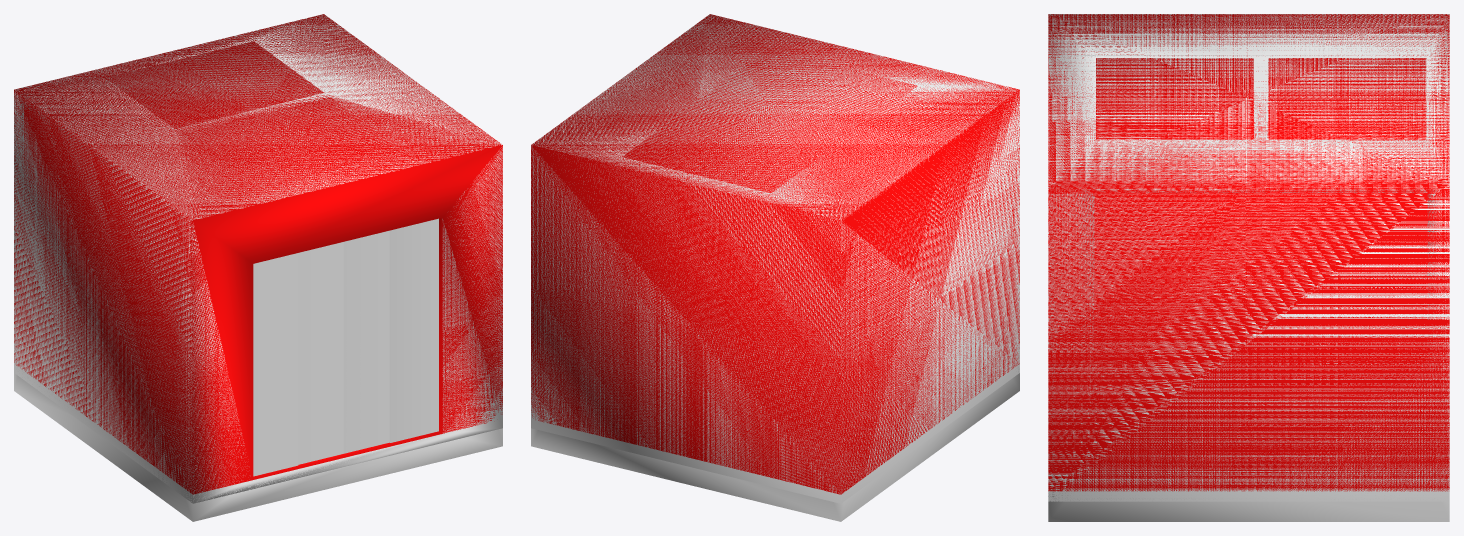
The model's file is aufzug_kabine.fbx.
The picture shows the model from 3 angles, left to right: view 1: azimuth 30°, elevation 25°; view 2: azimuth 150°, elevation 25°; view 3: azimuth 270°, elevation 25°; orthographic projection. The views are drawn at different scales.
Parts seen in each view (by area): view 1: colmesh_kabine, kabine_zu, kabine_glass, kabine_glass_tuere_rechts_part1, kabine_zu_tuere_links_part1, kabine_zu_tuere_links_part2, kabine_zu_tuere_rechts_part2, kabine_glass_tuere_rechts_part2; view 2: colmesh_kabine, kabine_zu, kabine_glass; view 3: colmesh_kabine, kabine_zu, kabine_glass.
Part boxes in pixels (x1,y1,x2,y2): colmesh_kabine: (14,14,502,494); kabine_zu: (14,15,502,503); kabine_glass: (14,15,502,521); kabine_glass_tuere_rechts_part1: (389,218,438,442); kabine_zu_tuere_links_part1: (253,253,298,476); kabine_zu_tuere_links_part2: (298,242,343,464); kabine_zu_tuere_rechts_part2: (344,230,389,453); kabine_glass_tuere_rechts_part2: (343,235,386,453); colmesh_kabine: (531,14,1019,494); kabine_zu: (531,14,1019,503); kabine_glass: (531,15,1019,521); colmesh_kabine: (1048,14,1449,491); kabine_zu: (1048,14,1449,501); kabine_glass: (1048,14,1449,521).
Size of the model in its own units: 300 by 279 by 300.
